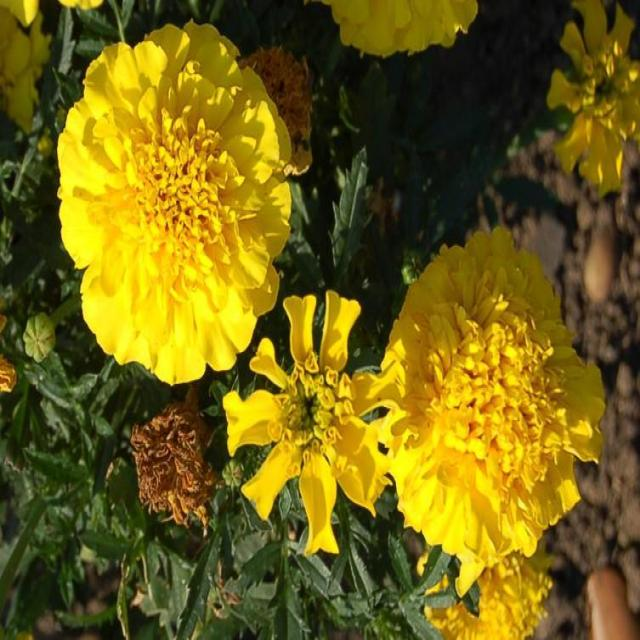marigold: (43, 10, 564, 620)
